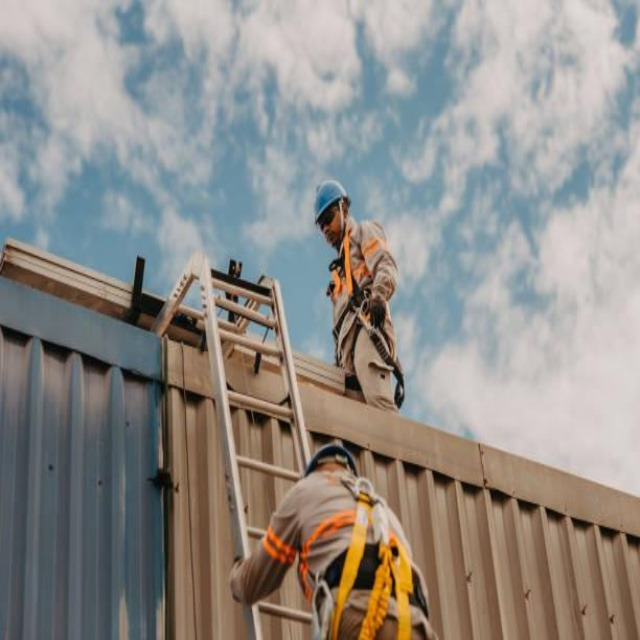Arnes_seguridad: (295, 476, 433, 640), (321, 226, 407, 391)
